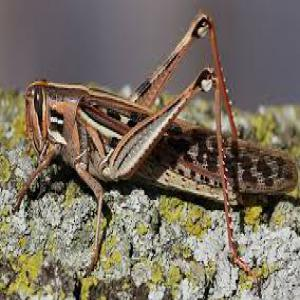locust: (25, 47, 300, 267)
